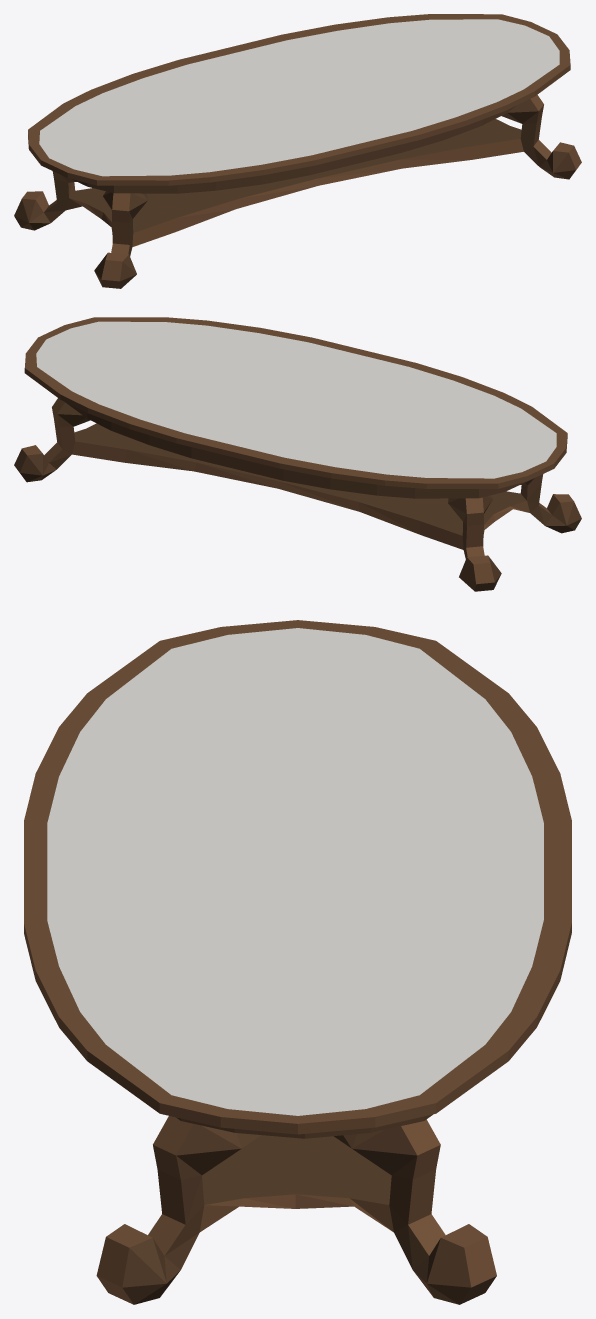
Rendered from dining-table.gltf.
3 renders of one model, top to bottom at view 1: azimuth 30°, elevation 25°; view 2: azimuth 150°, elevation 25°; view 3: azimuth 270°, elevation 25°, orthographic. The views are drawn at different scales.
Bounding box in the file's own units: 509 × 96 × 234.
1 material, 1 textured.
